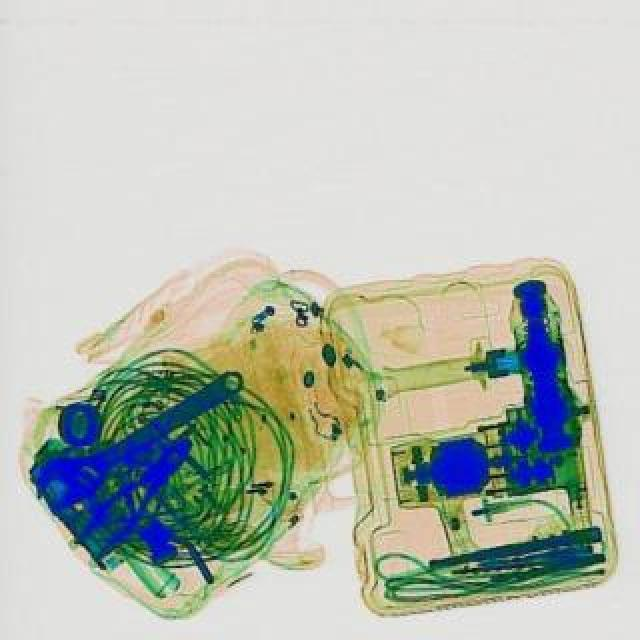scissors: (22, 352, 256, 520)
wrench: (64, 426, 208, 564)
